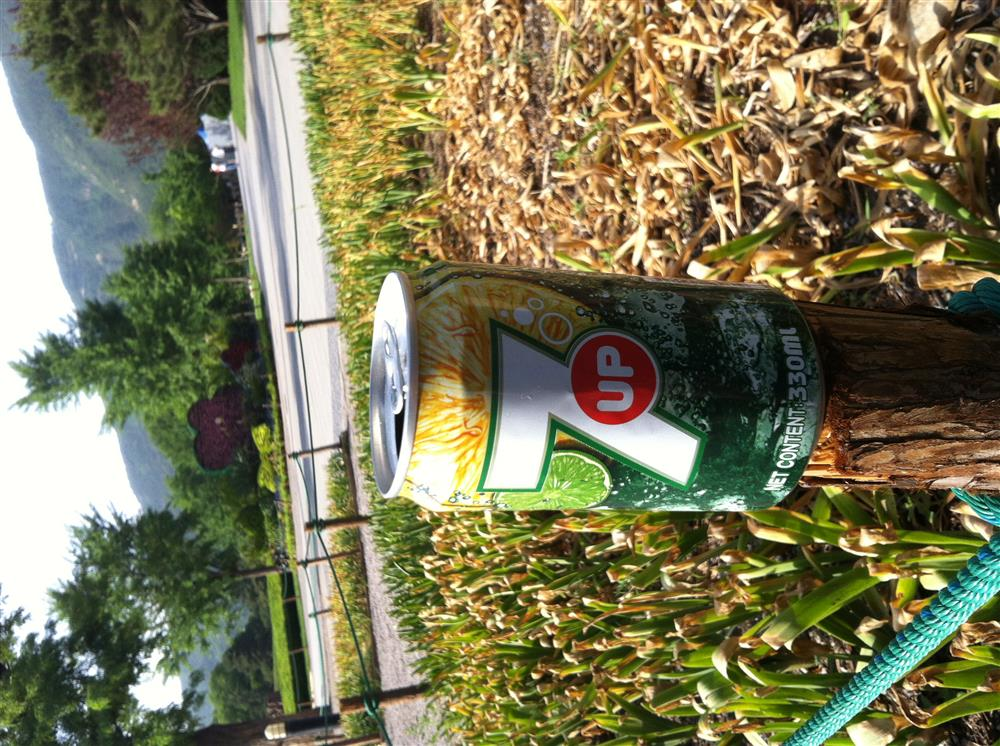SevenUp: (374, 265, 825, 517)
